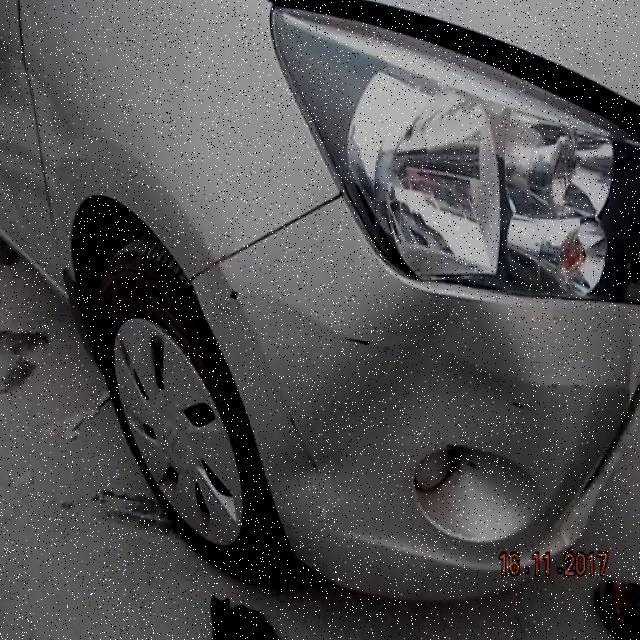car damage: (281, 289, 559, 505)
